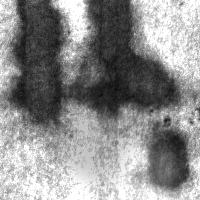patches: (50, 73, 162, 185), (75, 1, 177, 111), (8, 1, 64, 122), (97, 149, 183, 200), (118, 141, 182, 200), (145, 117, 190, 187)
